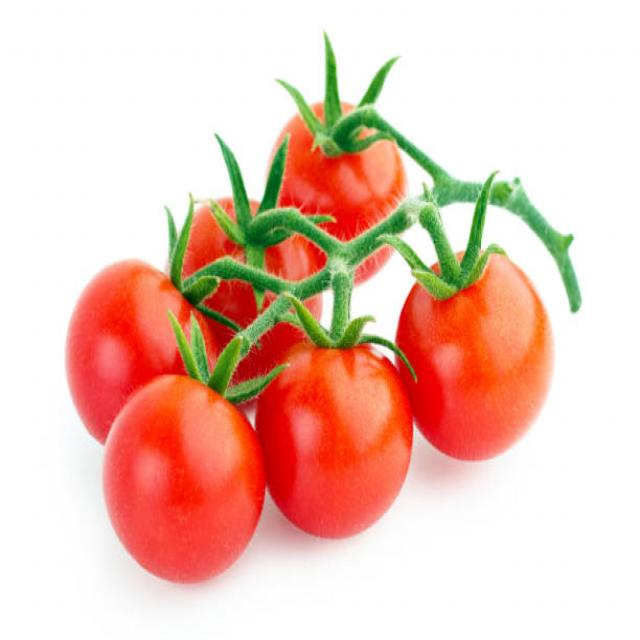tomatoes: (67, 73, 554, 585)
